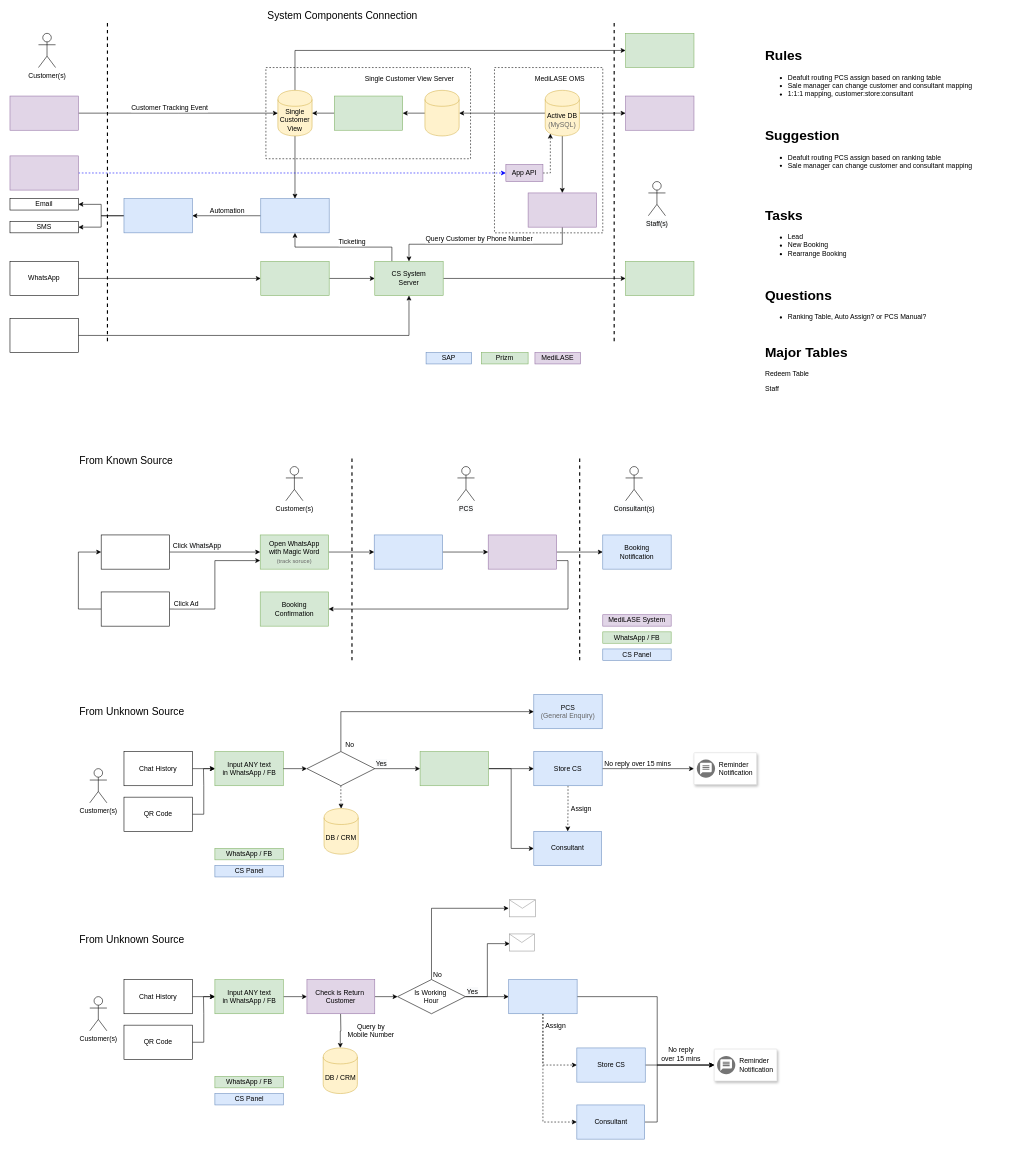
Image size: 1023x1149. Some labels were removed from this diagram. The shapes that lost their labels are listed below. From the top down, each one's centre as x and y in pixels, then its label:
At pixel 659 50: "Dashboard (tableau)".
At pixel 43 112: "Website(s)".
At pixel 368 112: "Python Scripts (ETL)".
At pixel 441 113: "Read Only DB".
At pixel 659 112: "OMS Panel (Web)".
At pixel 43 172: "Customer App".
At pixel 157 215: "SMS / Email Gateway".
At pixel 294 215: "SAP Marketing Cloud".
At pixel 562 209: "OMS API".
At pixel 294 278: "WhatsApp API Client".
At pixel 659 278: "CS Panel (Web / App)".
At pixel 43 335: "Facebook".
At pixel 135 551: "Website".
At pixel 408 551: "Handle Enquiry".
At pixel 522 551: "Booking (Existing Form)".
At pixel 135 608: "Ad".
At pixel 340 768: "Is Return Customer?".
At pixel 454 768: "Service Dialog".
At pixel 522 908: "Away Message".
At pixel 521 942: "Welcome Message".
At pixel 542 996: "PCS (Tag, Assign)".
